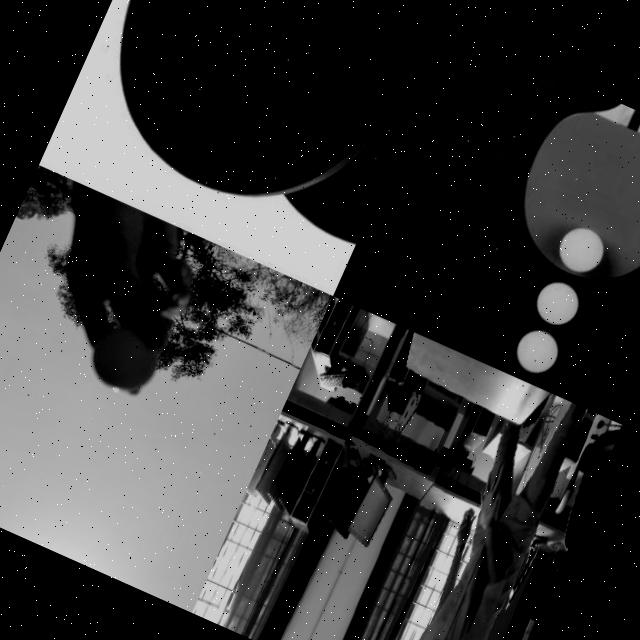ping-pong-ball: (82, 318, 168, 401), (510, 325, 566, 382), (555, 223, 610, 278), (532, 277, 585, 331), (476, 507, 492, 528)
